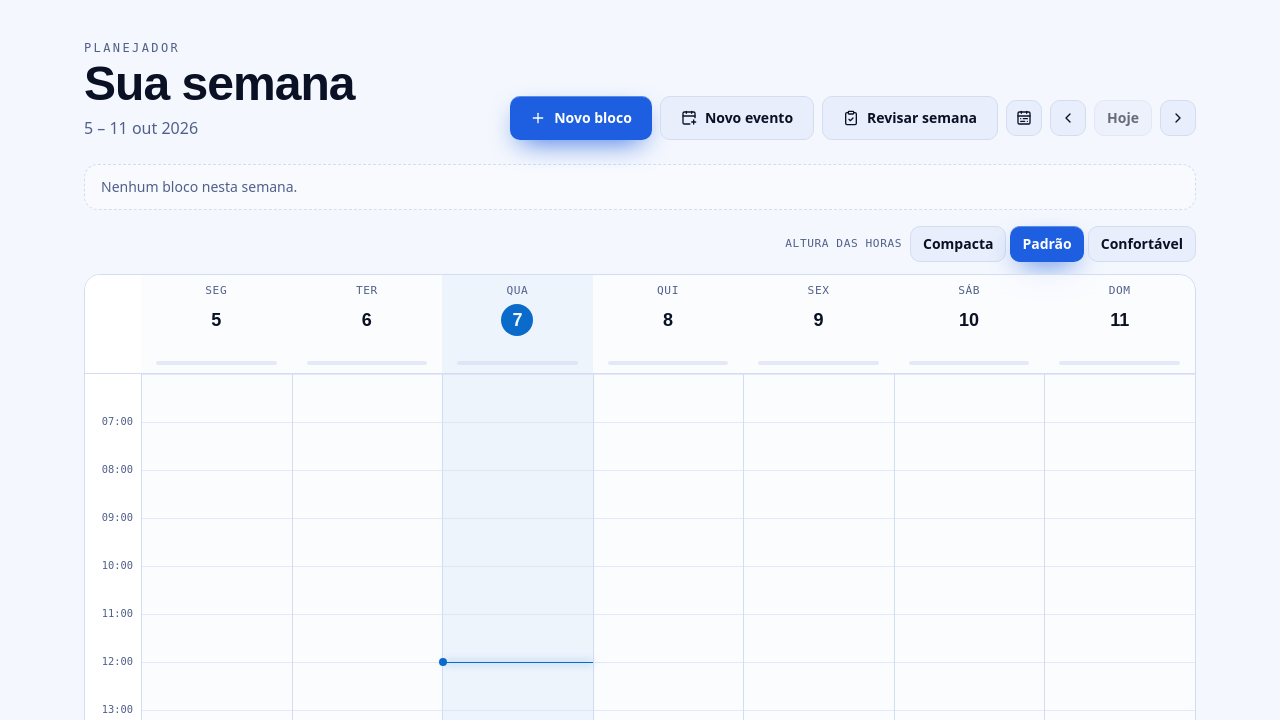
Scenario: eventos na Semana › criar evento › abre com os padrões: hoje, dia todo, lembrete de 1 dia antes (RN24)
The width and height of the screenshot is (1280, 720).
Click the button "Novo evento".
click(737, 118)  # box x1=660 y1=96 x2=814 y2=140
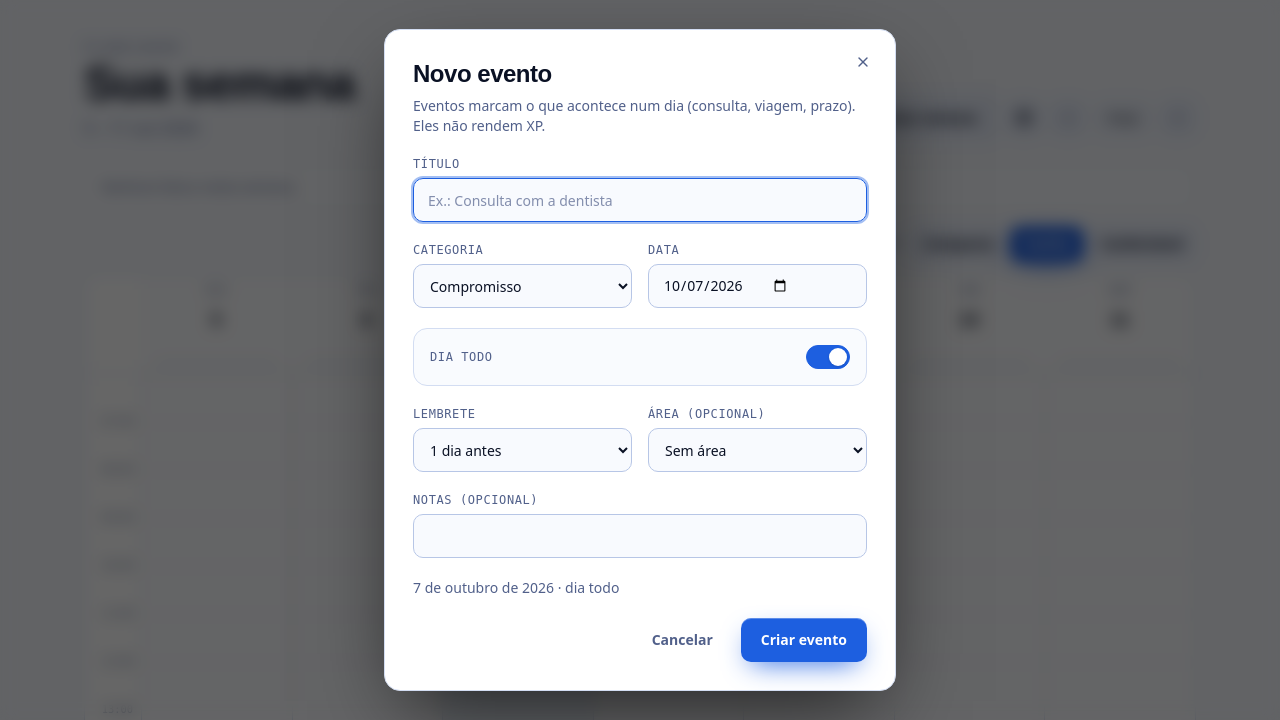
Result: the date field labelled "Data" holds "2026-10-07" at x1=648 y1=264 x2=867 y2=308
Result: the switch named "Dia todo" is checked at x1=806 y1=345 x2=850 y2=369
Result: the dropdown labelled "Lembrete" shows "1 dia antes" at x1=413 y1=428 x2=632 y2=472
